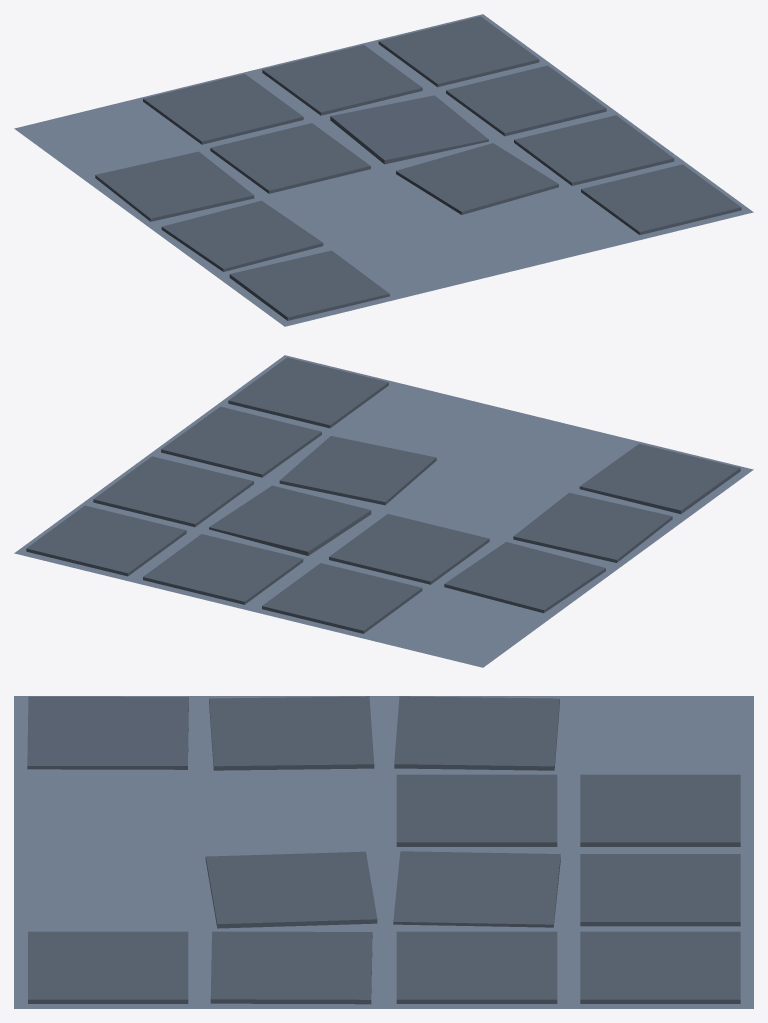
The model's file is FloorTile01.fbx.
3 views of the same model, one above another, from view 1: azimuth 30°, elevation 25°; view 2: azimuth 150°, elevation 25°; view 3: azimuth 270°, elevation 25° (orthographic). The views are drawn at different scales.
Parts seen in each view (by area): view 1: Plane; view 2: Plane; view 3: Plane.
Boxes of the visible parts, <box> form: Plane: <box>14,14,753,326</box>; Plane: <box>14,355,753,667</box>; Plane: <box>14,696,753,1008</box>.
Size of the model in its own units: 800 by 12.79 by 800.
Materials: 1 (1 with a texture image).
